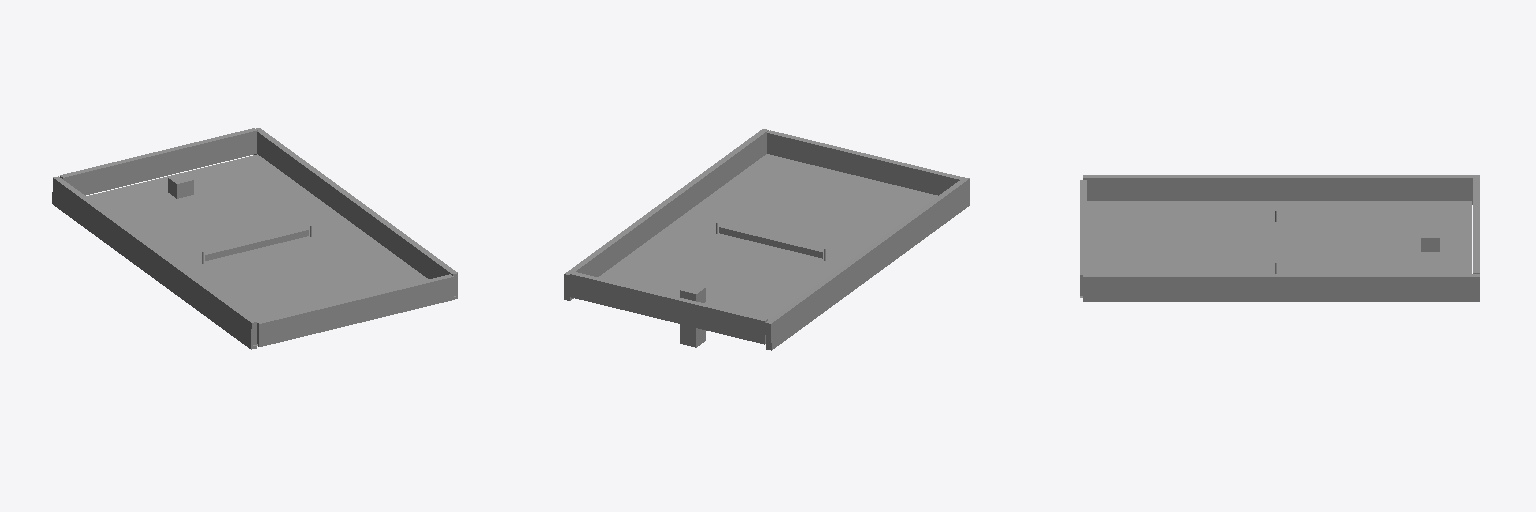
Rendered from map1.obj.
3 views of the same model, side by side, from view 1: azimuth 30°, elevation 25°; view 2: azimuth 150°, elevation 25°; view 3: azimuth 270°, elevation 25° (orthographic).
Visible parts, largest first — view 1: Plane.002_Plane.004, Plane_Plane.001, Cube.001_Cube.003, Cube_Cube.002, Cube.003_Cube.005, Cube.002_Cube.004, Plane.001_Plane, Cube.008; view 2: Plane.002_Plane.004, Plane_Plane.001, Cube.001_Cube.003, Cube_Cube.002, Cube.002_Cube.004, Cube.003_Cube.005, Cube.008, Plane.001_Plane; view 3: Plane.002_Plane.004, Plane_Plane.001, Cube_Cube.002, Cube.001_Cube.003, Cube.003_Cube.005, Cube.002_Cube.004.
Boxes of the visible parts, x1=… form: Plane.002_Plane.004: x1=86, y1=154, x2=455, y2=345; Plane_Plane.001: x1=137, y1=190, x2=376, y2=309; Cube.001_Cube.003: x1=52, y1=176, x2=256, y2=349; Cube_Cube.002: x1=254, y1=128, x2=457, y2=299; Cube.003_Cube.005: x1=257, y1=274, x2=453, y2=346; Cube.002_Cube.004: x1=60, y1=128, x2=257, y2=195; Plane.001_Plane: x1=205, y1=230, x2=308, y2=260; Cube.008: x1=168, y1=173, x2=193, y2=198; Plane.002_Plane.004: x1=598, y1=154, x2=937, y2=319; Plane_Plane.001: x1=651, y1=188, x2=890, y2=306; Cube.001_Cube.003: x1=765, y1=177, x2=969, y2=350; Cube_Cube.002: x1=564, y1=129, x2=768, y2=300; Cube.002_Cube.004: x1=570, y1=272, x2=767, y2=344; Cube.003_Cube.005: x1=767, y1=130, x2=963, y2=195; Cube.008: x1=680, y1=283, x2=705, y2=347; Plane.001_Plane: x1=719, y1=227, x2=822, y2=258; Plane.002_Plane.004: x1=1080, y1=201, x2=1471, y2=297; Plane_Plane.001: x1=1152, y1=219, x2=1399, y2=273; Cube_Cube.002: x1=1083, y1=274, x2=1479, y2=301; Cube.001_Cube.003: x1=1083, y1=175, x2=1479, y2=204; Cube.003_Cube.005: x1=1080, y1=180, x2=1086, y2=295; Cube.002_Cube.004: x1=1473, y1=178, x2=1479, y2=273.
Bounding box in the file's own units: 24.99 × 7.17 × 41.76.